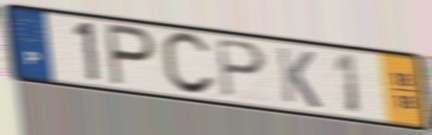1: (72, 20, 103, 84), (332, 51, 361, 116)
C: (159, 30, 219, 98)
K: (274, 45, 324, 111)
P: (104, 21, 159, 90), (214, 36, 269, 100)
